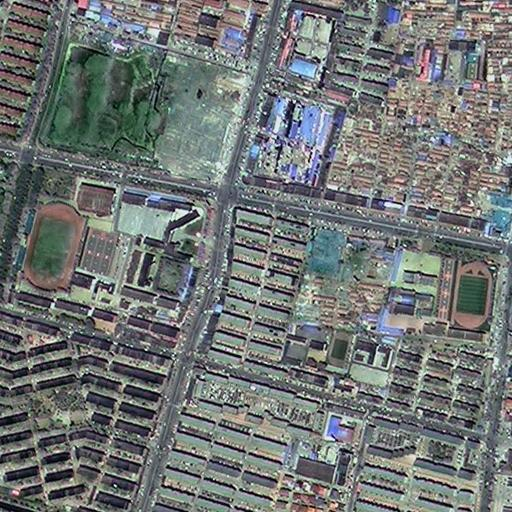school: (11, 179, 210, 341), (375, 246, 501, 340), (322, 325, 397, 387)
